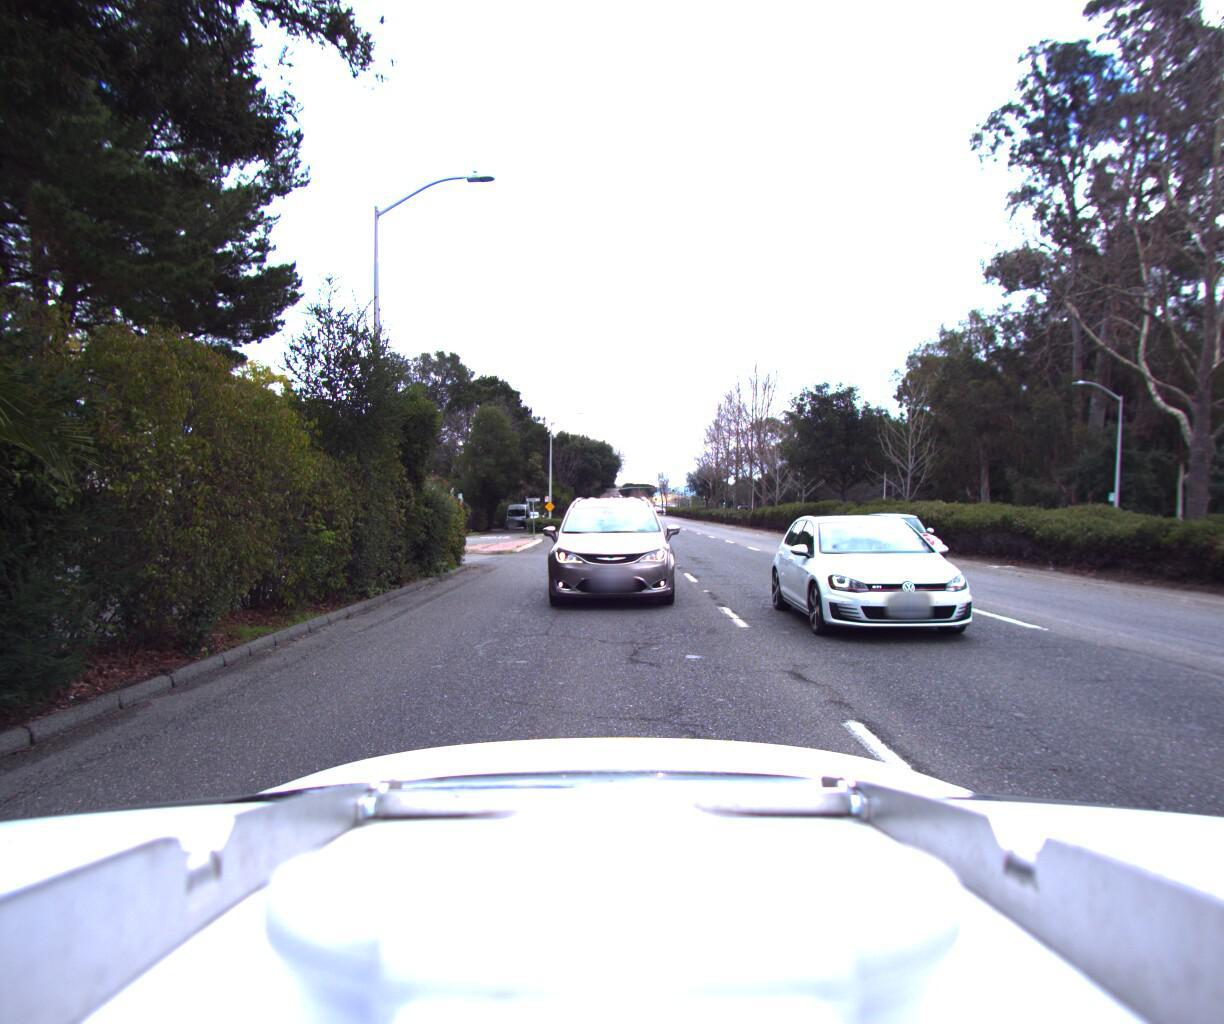car: (770, 492, 1042, 661), (540, 486, 670, 612), (861, 509, 979, 574), (601, 498, 621, 514)
other_vehicle: (504, 500, 530, 526)
